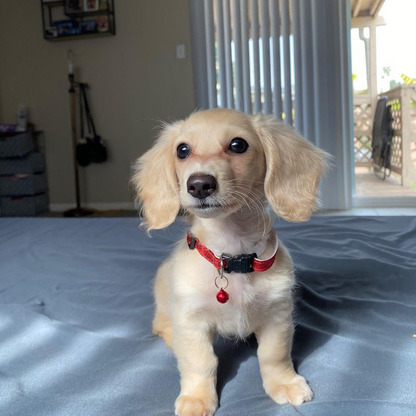dachshund: (114, 104, 345, 399)
